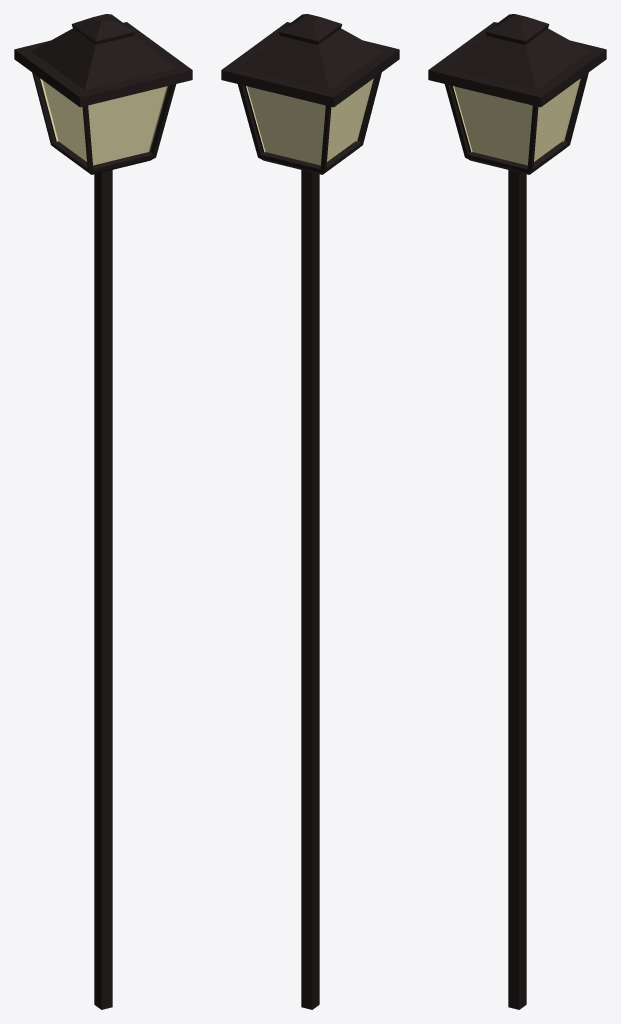
File: streetlamp.FBX
The picture shows the model from 3 angles, left to right: view 1: azimuth 30°, elevation 25°; view 2: azimuth 150°, elevation 25°; view 3: azimuth 330°, elevation 25°; orthographic projection.
Visible parts, largest first — view 1: lightB_001, lamp_light001; view 2: lightB_001, lamp_light001; view 3: lightB_001, lamp_light001.
Boxes of the visible parts, x1,y1,x2,y2 form: lightB_001: (14, 14, 192, 1009); lamp_light001: (40, 78, 167, 165); lightB_001: (221, 14, 399, 1009); lamp_light001: (246, 78, 373, 165); lightB_001: (428, 14, 606, 1009); lamp_light001: (453, 78, 580, 165).
Bounding box in the file's own units: 32.67 × 274 × 33.11.
